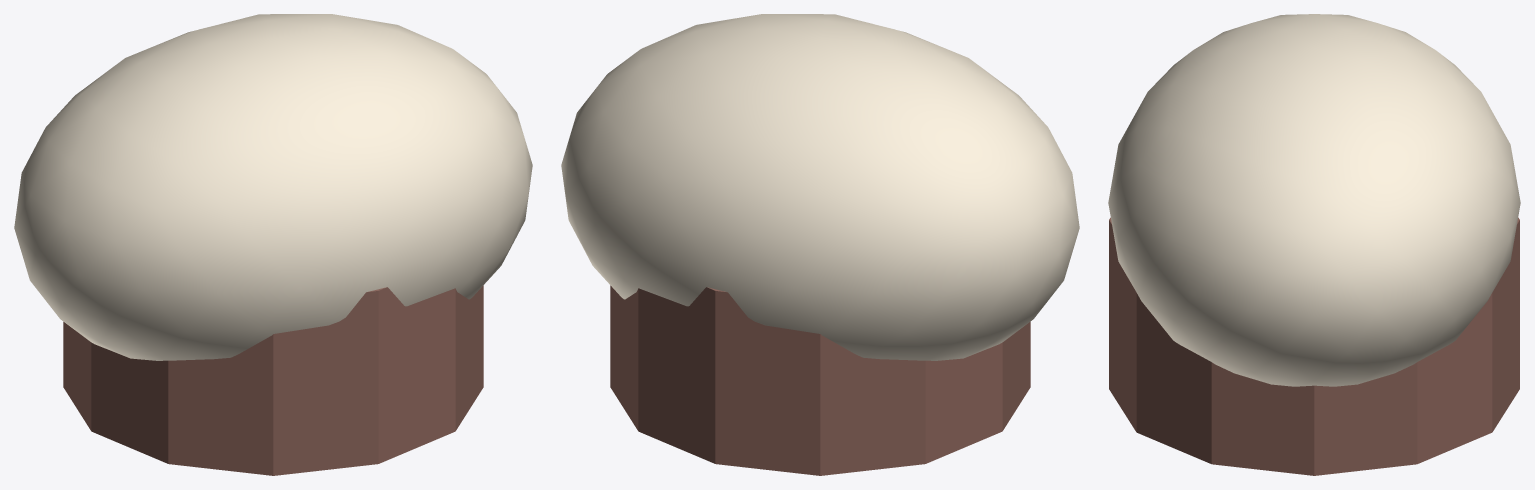
File: shell-house.glb
3 views of the same model, side by side, from view 1: azimuth 30°, elevation 25°; view 2: azimuth 150°, elevation 25°; view 3: azimuth 270°, elevation 25° (orthographic). The views are drawn at different scales.
Visible parts, largest first — view 1: Nacre shell, House stilts; view 2: Nacre shell, House stilts; view 3: Nacre shell, House stilts.
Part boxes in pixels (box(x1,y1,x2,y2)): Nacre shell: box(14, 14, 532, 360); House stilts: box(63, 285, 483, 475); Nacre shell: box(561, 14, 1079, 360); House stilts: box(610, 285, 1030, 475); Nacre shell: box(1108, 14, 1520, 386); House stilts: box(1109, 217, 1519, 475).
Size of the model in its own units: 1.44 by 1.01 by 1.1.
